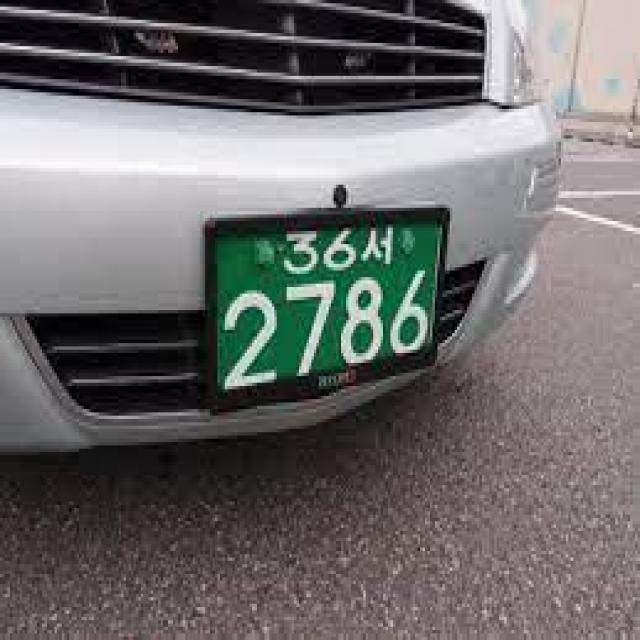illegal_plate: (199, 196, 449, 409)
